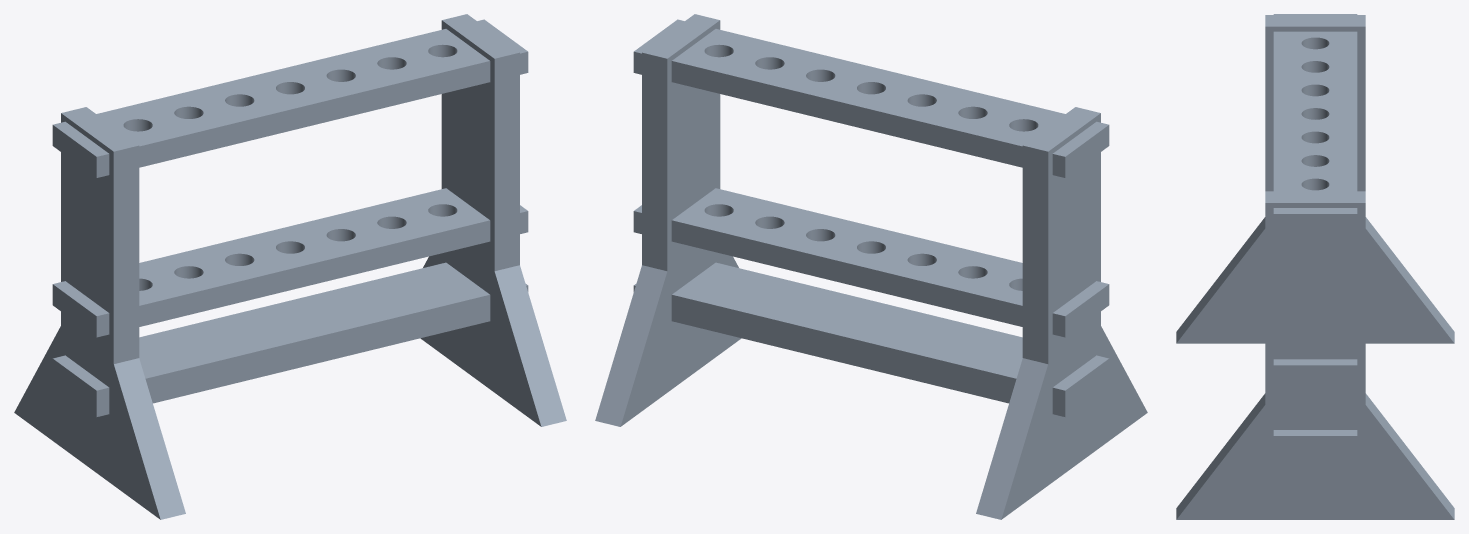
The model's file is simple_rack.obj.
3 views of the same model, side by side, from view 1: azimuth 30°, elevation 25°; view 2: azimuth 150°, elevation 25°; view 3: azimuth 270°, elevation 25° (orthographic). The views are drawn at different scales.
Parts seen in each view (by area): view 1: 1; view 2: 1; view 3: 1.
Part boxes in pixels (x1,y1,x2,y2): 1: (14, 14, 566, 519); 1: (595, 14, 1147, 519); 1: (1176, 14, 1454, 519).
Bounding box in the file's own units: 170 × 126 × 100.
